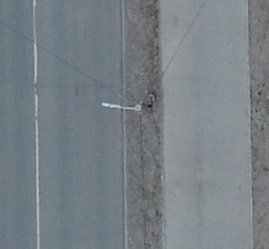opora: (100, 91, 157, 112)
